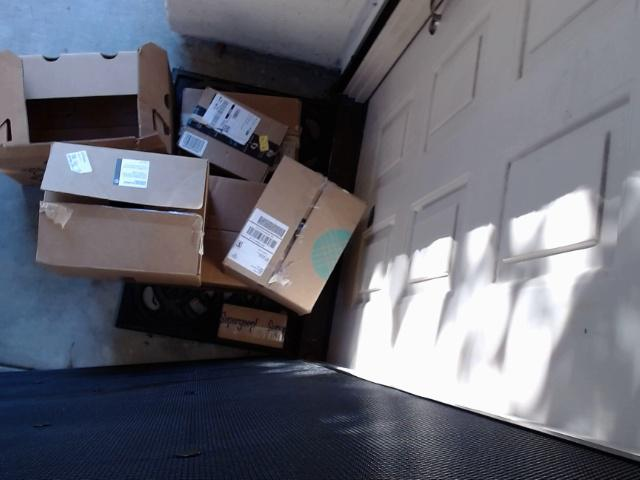box: (1, 30, 186, 176), (32, 146, 209, 296), (164, 71, 334, 198), (225, 158, 356, 318), (200, 285, 316, 364)
